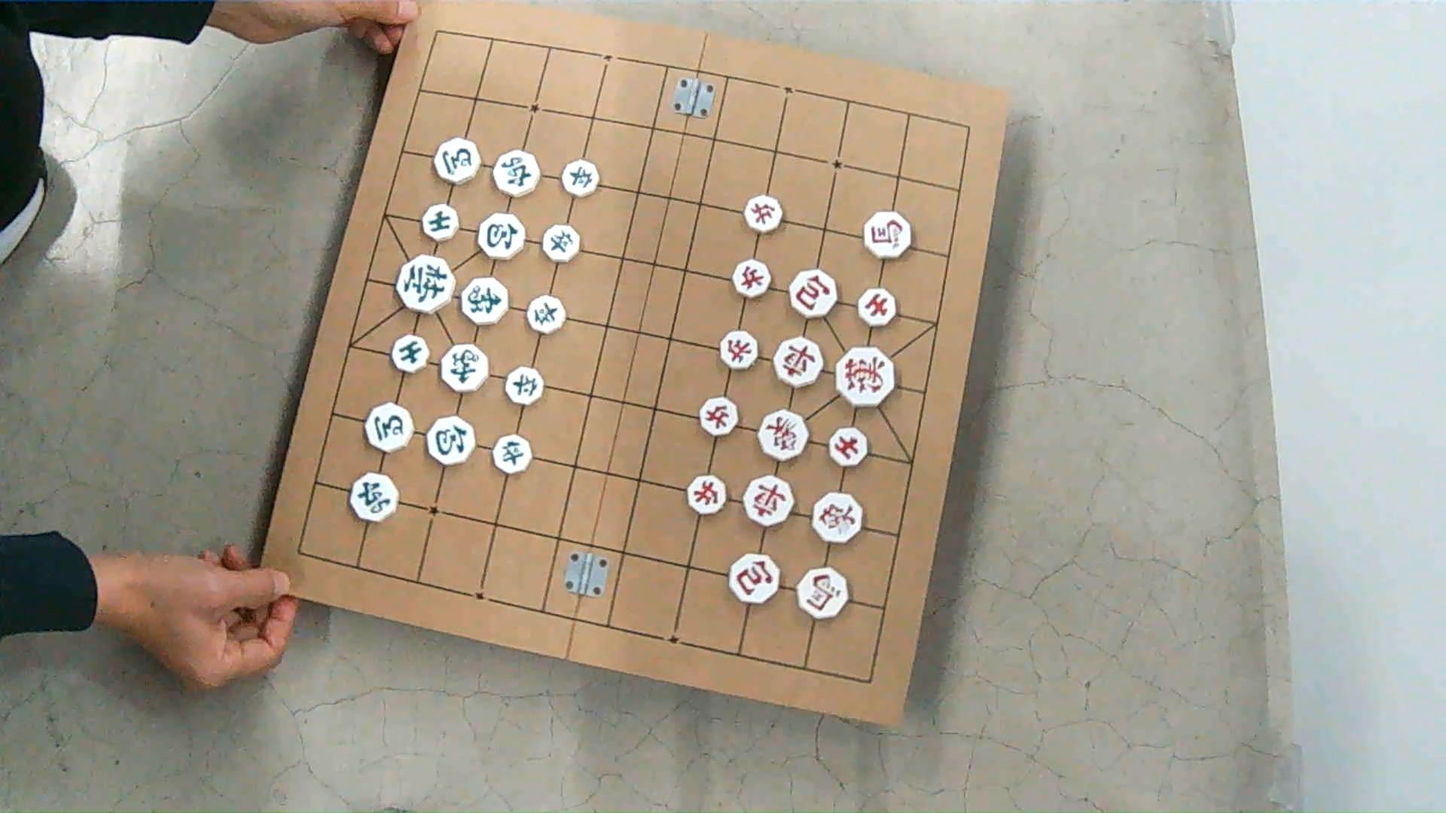cha_green: (350, 473, 397, 522), (493, 151, 538, 197)
cha_red: (773, 338, 822, 388), (743, 477, 792, 526)
jol_green: (492, 434, 534, 475), (526, 295, 564, 333), (505, 367, 542, 405), (542, 225, 579, 262), (563, 160, 598, 196)
jol_red: (687, 474, 725, 515), (699, 397, 737, 436), (720, 330, 757, 370), (744, 195, 782, 233), (733, 259, 770, 298)
ma_green: (364, 402, 414, 453), (434, 138, 480, 184)
ma_red: (796, 568, 847, 618), (864, 211, 911, 259)
po_green: (426, 416, 474, 465), (477, 213, 523, 260)
po_red: (728, 554, 778, 603), (789, 269, 837, 318)
sa_green: (421, 203, 459, 243), (392, 335, 429, 373)
sa_red: (829, 427, 868, 467), (858, 288, 895, 327)
sang_green: (460, 277, 507, 326), (441, 344, 487, 391)
sang_red: (812, 492, 864, 544), (758, 410, 810, 461)
wang_green: (397, 254, 453, 313)
wang_red: (834, 346, 896, 407)
